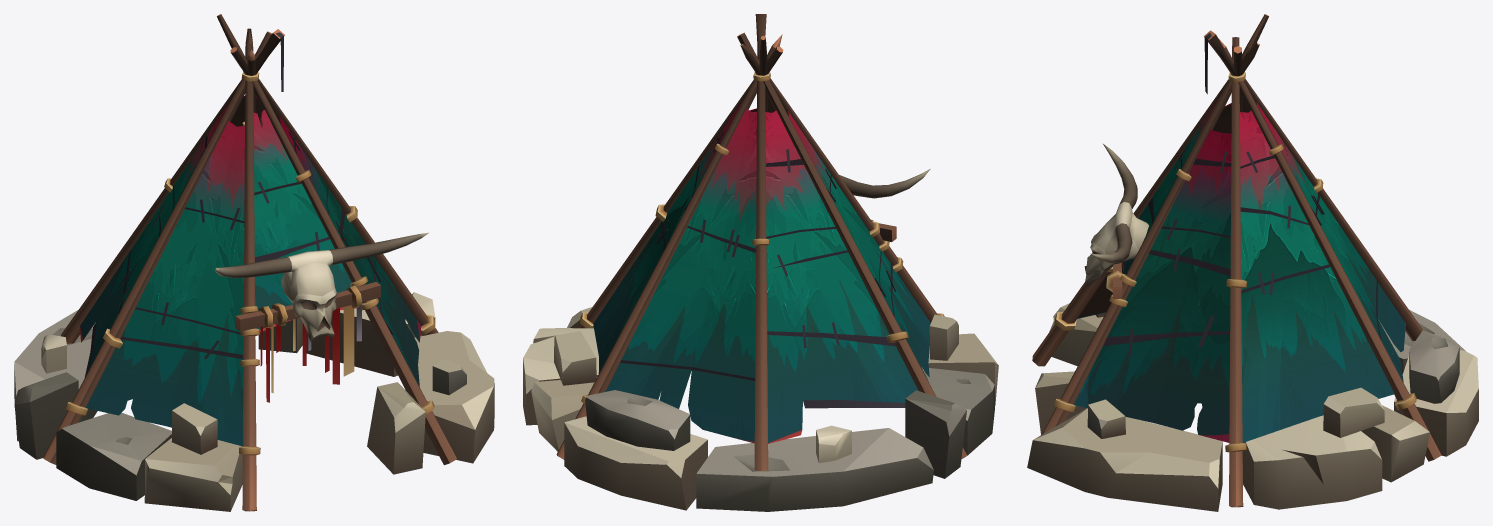
Rendered from Hut_3B.fbx.
The picture shows the model from 3 angles, left to right: view 1: azimuth 30°, elevation 25°; view 2: azimuth 150°, elevation 25°; view 3: azimuth 270°, elevation 25°; orthographic projection.
Visible parts, largest first — view 1: Hut_3B, Hut_3B_Giant_Skull; view 2: Hut_3B, Hut_3B_Giant_Skull; view 3: Hut_3B, Hut_3B_Giant_Skull.
Part boxes in pixels (x1,y1,x2,y2): Hut_3B: (14, 14, 494, 511); Hut_3B_Giant_Skull: (215, 232, 428, 341); Hut_3B: (523, 14, 998, 511); Hut_3B_Giant_Skull: (839, 169, 930, 198); Hut_3B: (1027, 14, 1478, 511); Hut_3B_Giant_Skull: (1084, 144, 1148, 286).
Bounding box in the file's own units: 592 × 531 × 555.
